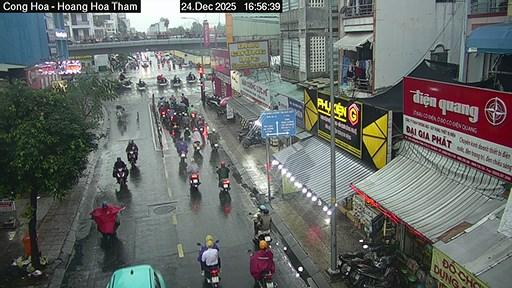motorbike: (336, 238, 389, 275), (348, 256, 406, 286), (90, 205, 124, 244), (246, 250, 277, 287), (204, 95, 226, 115), (243, 131, 265, 147), (205, 265, 218, 287), (204, 265, 217, 287), (258, 270, 274, 287), (252, 229, 270, 244), (218, 180, 229, 202), (115, 166, 127, 185), (204, 94, 220, 108), (170, 122, 179, 140), (188, 172, 198, 188), (128, 149, 137, 166), (192, 140, 201, 156), (179, 149, 185, 172), (135, 81, 146, 90), (120, 79, 131, 88), (156, 77, 167, 85), (115, 108, 122, 120), (172, 77, 181, 86), (182, 126, 188, 139), (211, 140, 217, 151), (185, 75, 195, 81)
